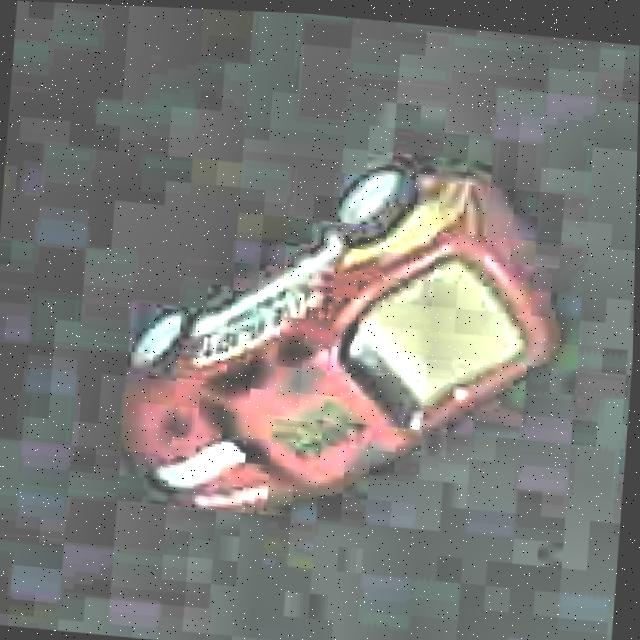car: (108, 131, 571, 558)
